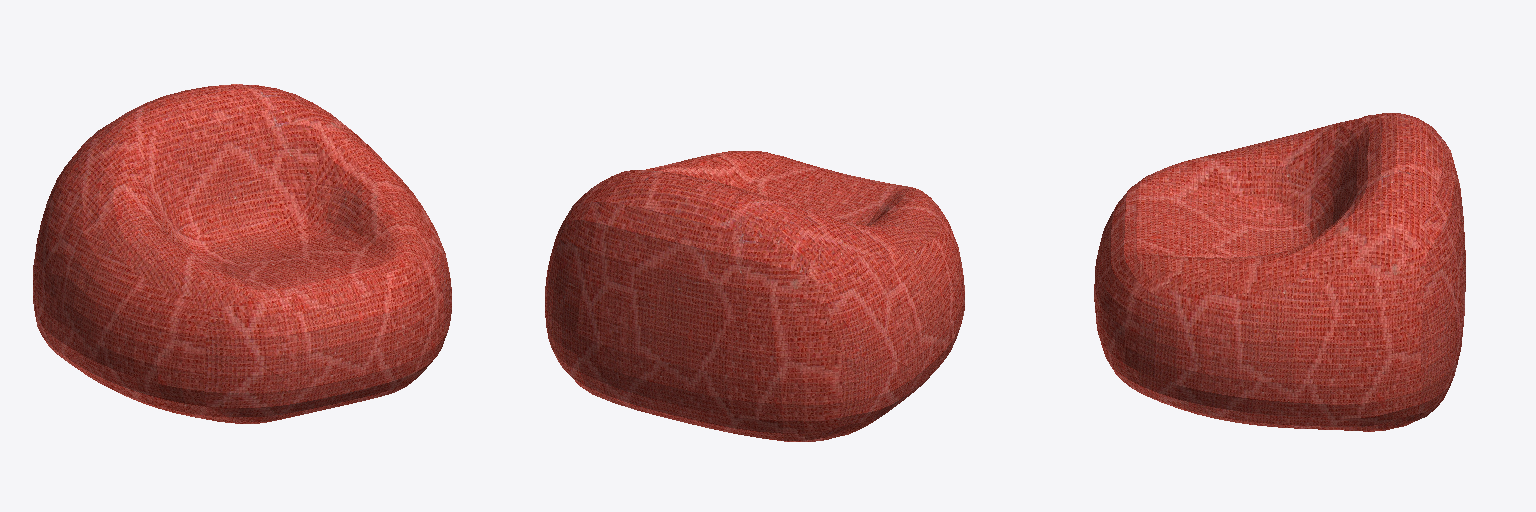
3 views of the same model, side by side, from view 1: azimuth 30°, elevation 25°; view 2: azimuth 150°, elevation 25°; view 3: azimuth 270°, elevation 25° (orthographic).
Visible parts, largest first — view 1: Gumball_Ar; view 2: Gumball_Ar; view 3: Gumball_Ar.
Boxes of the visible parts, box(x1,y1,x2,y2) form: Gumball_Ar: box(33, 84, 451, 423); Gumball_Ar: box(545, 151, 964, 441); Gumball_Ar: box(1094, 113, 1465, 431).
Bounding box in the file's own units: 39.32 × 25.15 × 36.34.
Materials: 1 (1 with a texture image).